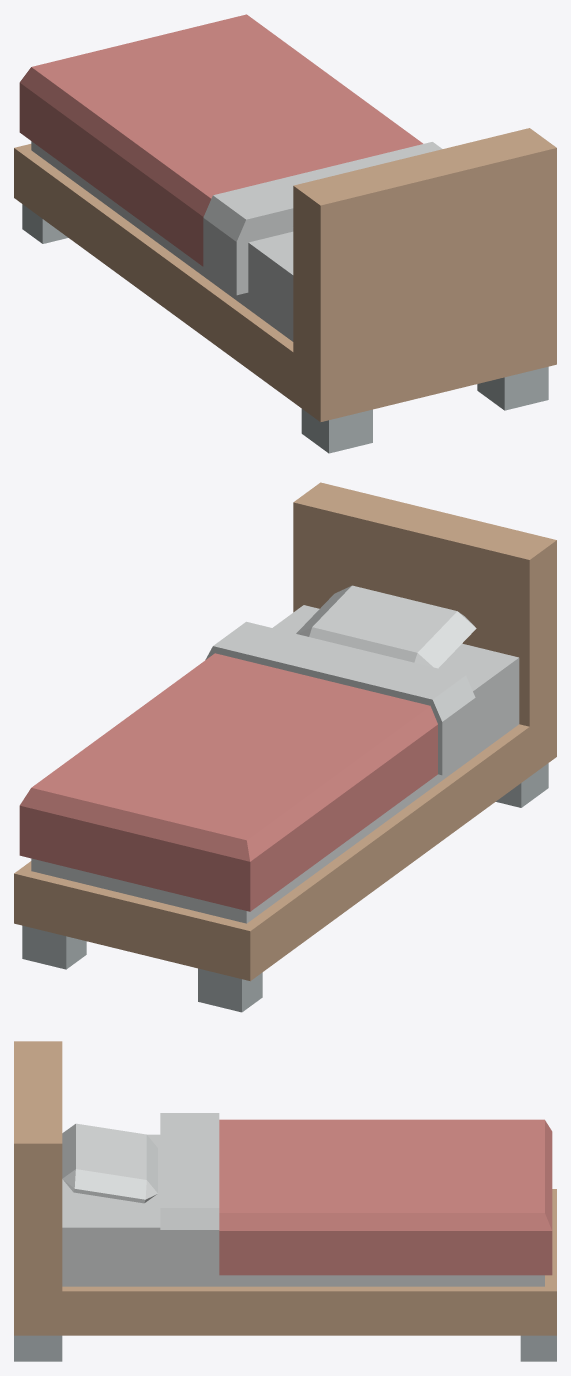
Rendered from bed-single.glb.
The picture shows the model from 3 angles, top to bottom: view 1: azimuth 30°, elevation 25°; view 2: azimuth 150°, elevation 25°; view 3: azimuth 270°, elevation 25°; orthographic projection. The views are drawn at different scales.
Parts seen in each view (by area): view 1: bed-single; view 2: bed-single; view 3: bed-single.
Part boxes in pixels (x1,y1,x2,y2): bed-single: (14, 14, 556, 453); bed-single: (14, 482, 556, 1012); bed-single: (14, 1041, 556, 1361).
Bounding box in the file's own units: 0.9 × 0.9 × 2.
